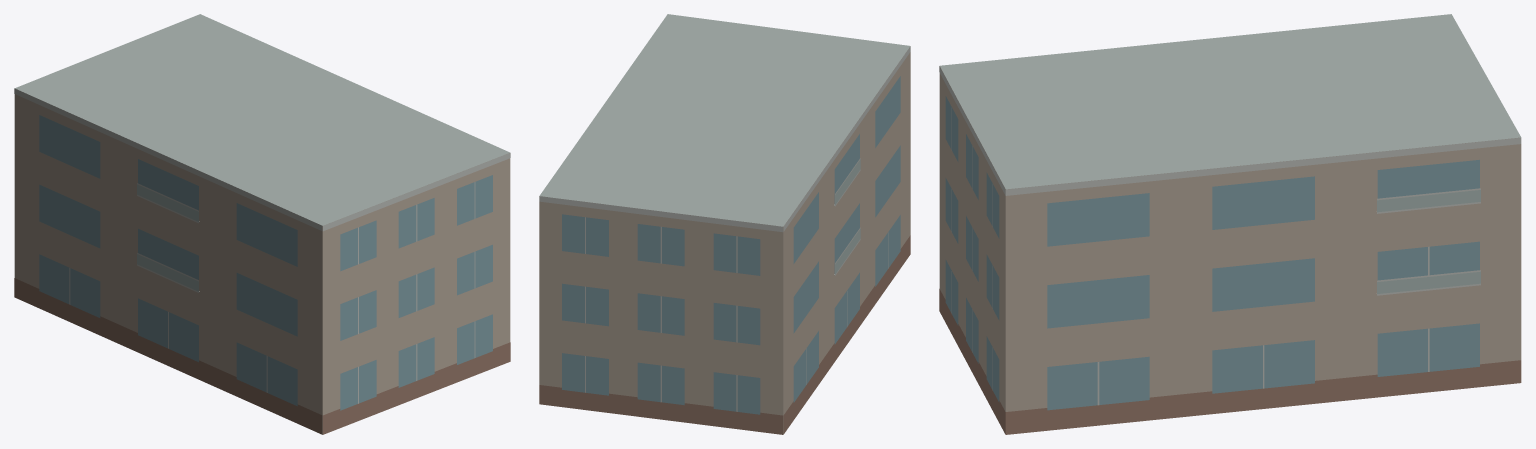
Rendered from survey-upis-32721996.glb.
The picture shows the model from 3 angles, left to right: view 1: azimuth 30°, elevation 25°; view 2: azimuth 150°, elevation 25°; view 3: azimuth 270°, elevation 25°; orthographic projection. The views are drawn at different scales.
Visible parts, largest first — view 1: survey-upis-32721996.tmp; view 2: survey-upis-32721996.tmp; view 3: survey-upis-32721996.tmp.
Boxes of the visible parts, x1=… form: survey-upis-32721996.tmp: x1=14, y1=14, x2=510, y2=434; survey-upis-32721996.tmp: x1=539, y1=14, x2=910, y2=434; survey-upis-32721996.tmp: x1=939, y1=14, x2=1521, y2=434.
Size of the model in its own units: 14.03 by 9.15 by 19.67.
